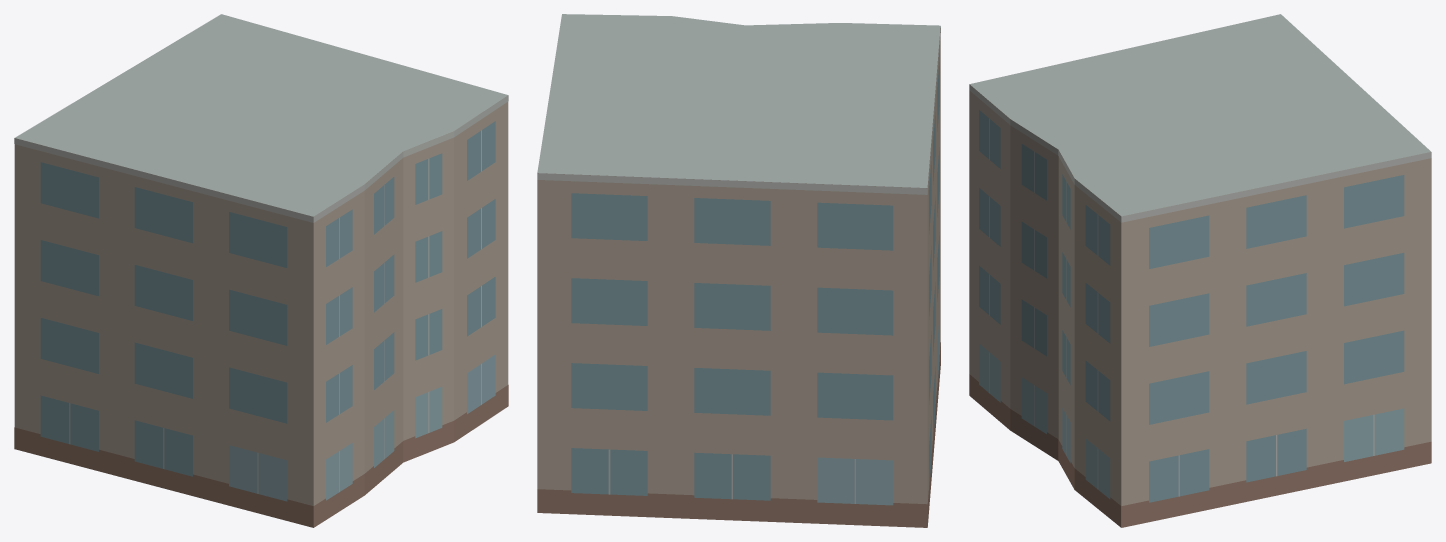
The model's file is survey-upis-32745159.glb.
3 renders of one model, left to right at view 1: azimuth 30°, elevation 25°; view 2: azimuth 150°, elevation 25°; view 3: azimuth 270°, elevation 25°, orthographic. The views are drawn at different scales.
Parts seen in each view (by area): view 1: survey-upis-32745159.tmp; view 2: survey-upis-32745159.tmp; view 3: survey-upis-32745159.tmp.
Boxes of the visible parts, x1=… form: survey-upis-32745159.tmp: x1=14, y1=14, x2=508, y2=527; survey-upis-32745159.tmp: x1=537, y1=14, x2=940, y2=527; survey-upis-32745159.tmp: x1=969, y1=14, x2=1431, y2=527.
Bounding box in the file's own units: 17.01 × 12.2 × 16.41.
